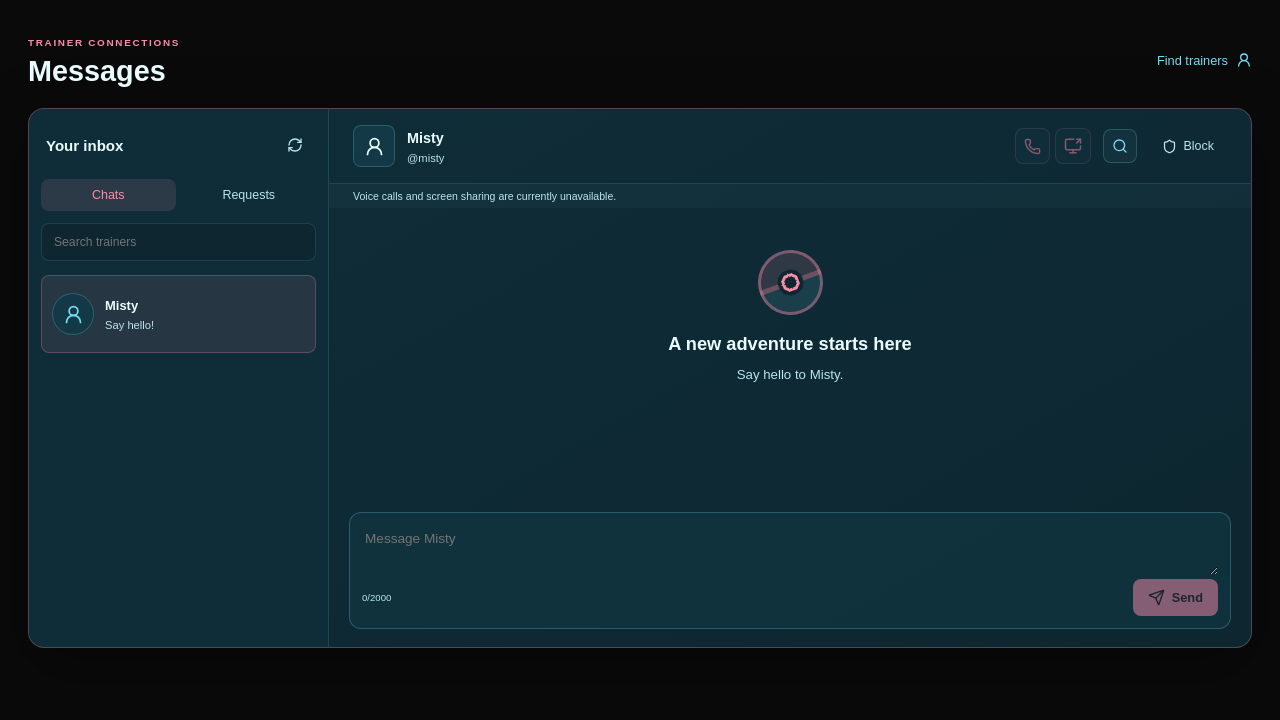
Test case: messages inbox › keeps the next draft and the composer focus while a send is pending
In the text box labelled "Message Misty": (790, 550) top-left (362, 525), bottom-right (1218, 575), type "First"
Then press Enter
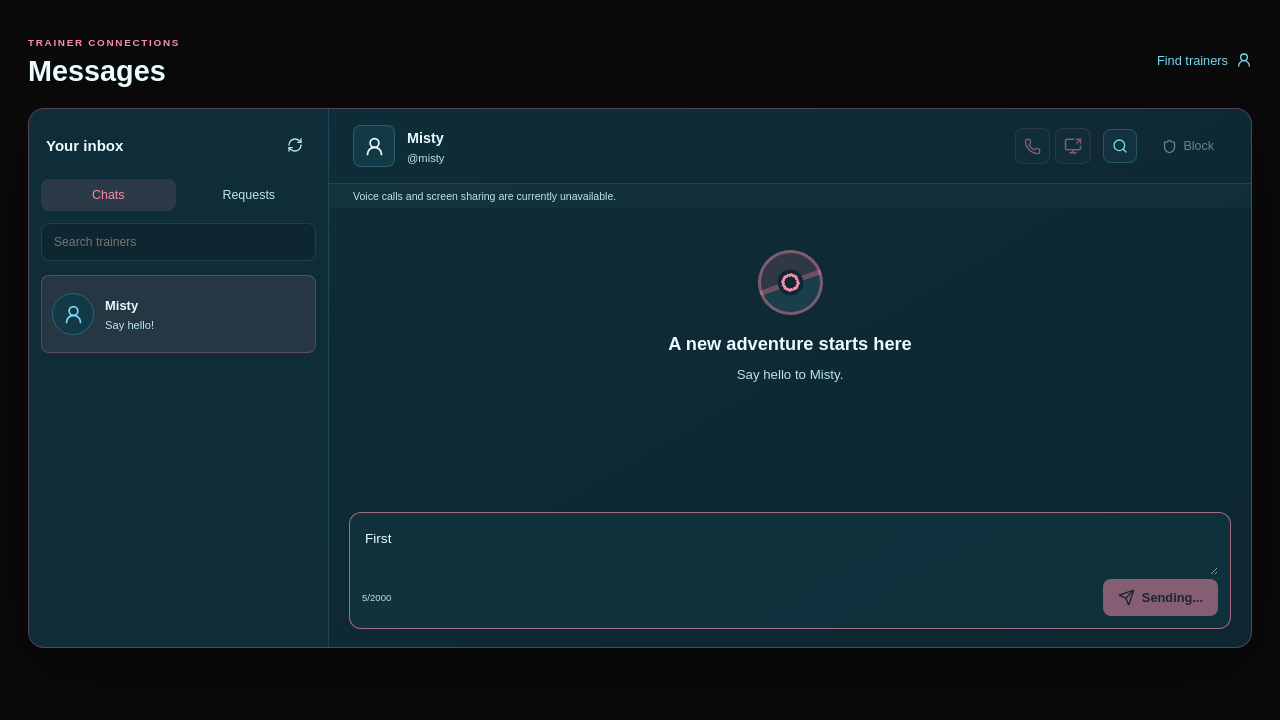
Replace the text in the text box named "Message Misty" with "Next draft": (790, 550) top-left (362, 525), bottom-right (1218, 575)
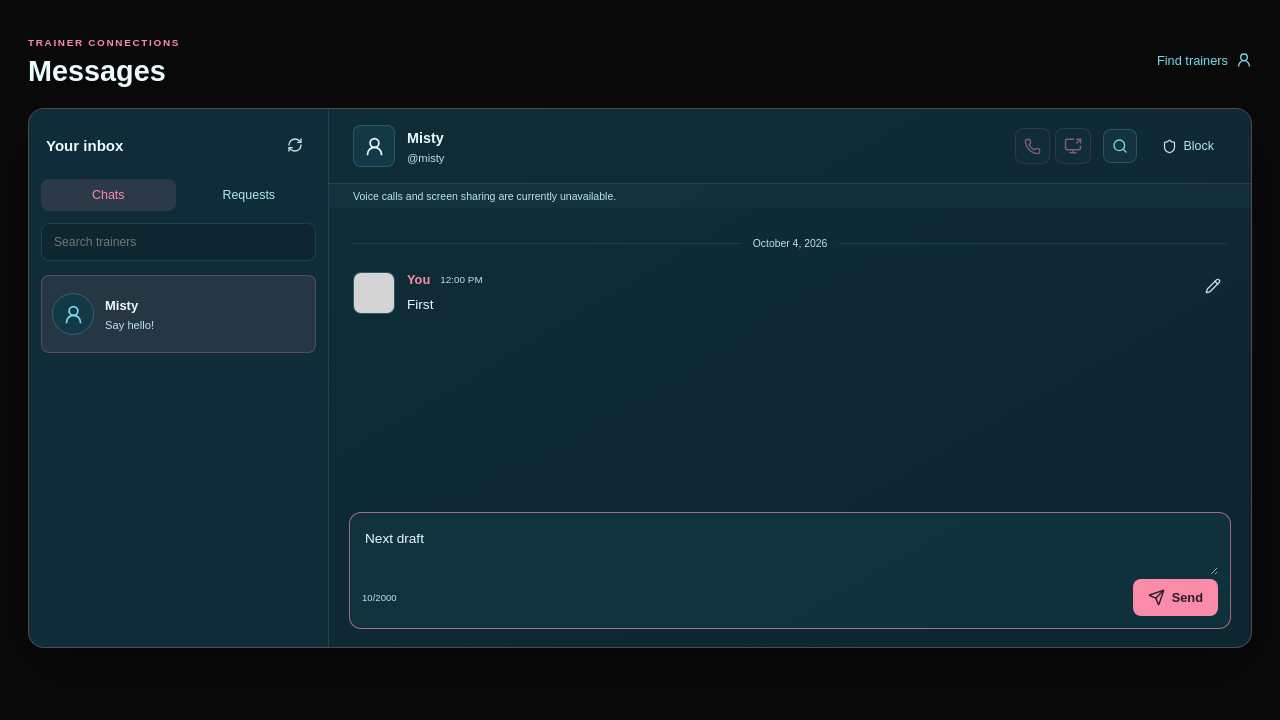
Expected: the text "First" is shown, top-left (407, 297), bottom-right (433, 312)
